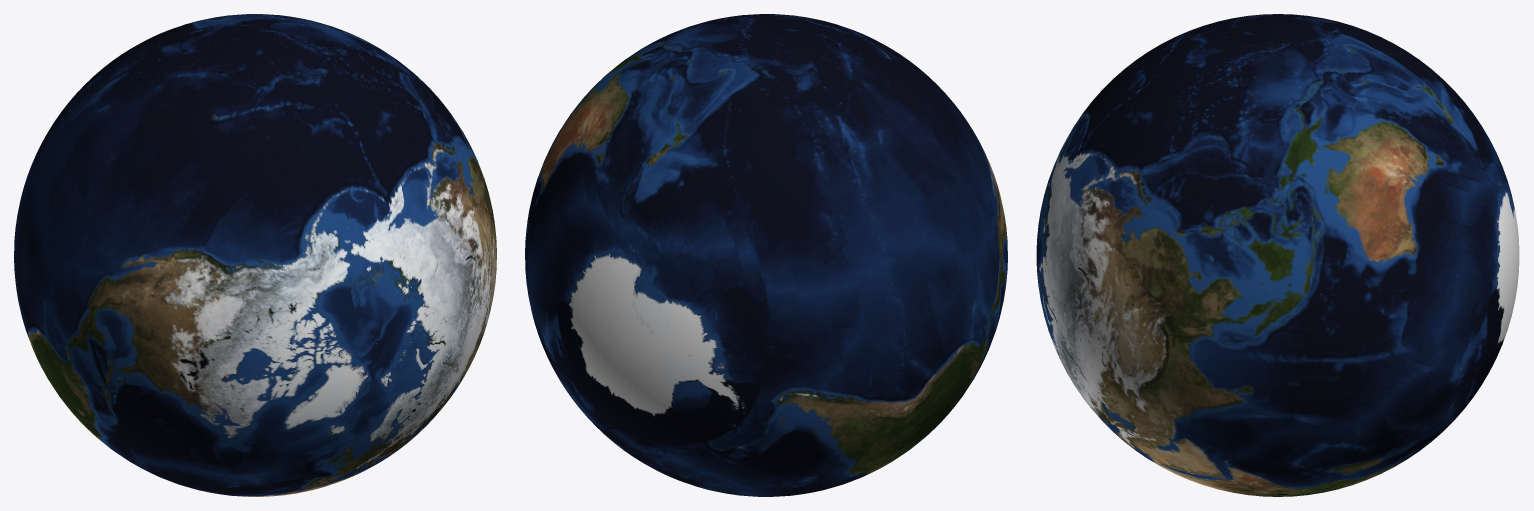
File: terra.obj
3 views of the same model, side by side, from view 1: azimuth 30°, elevation 25°; view 2: azimuth 150°, elevation 25°; view 3: azimuth 270°, elevation 25° (orthographic).
Parts seen in each view (by area): view 1: Sphere001; view 2: Sphere001; view 3: Sphere001.
Boxes of the visible parts, x1,y1,x2,y2 form: Sphere001: (14,14,496,496); Sphere001: (525,14,1007,496); Sphere001: (1036,14,1519,496).
Size of the model in its own units: 40 by 40 by 40.
Materials: 1 (1 with a texture image).
